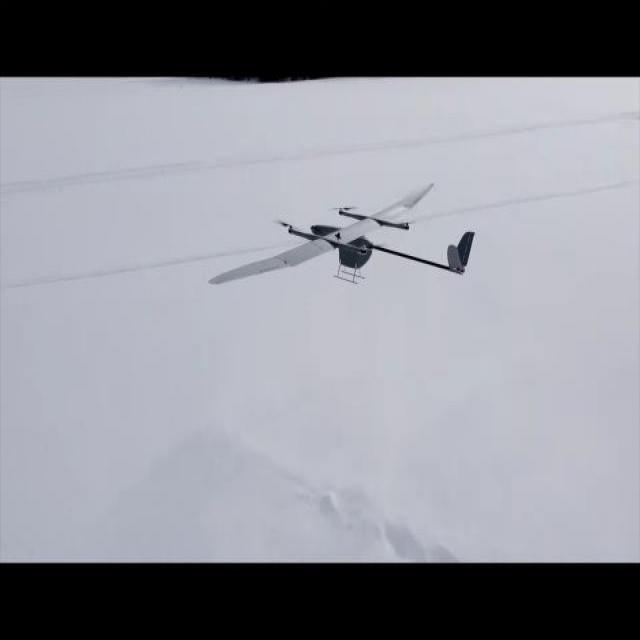iha: (249, 189, 461, 319)
